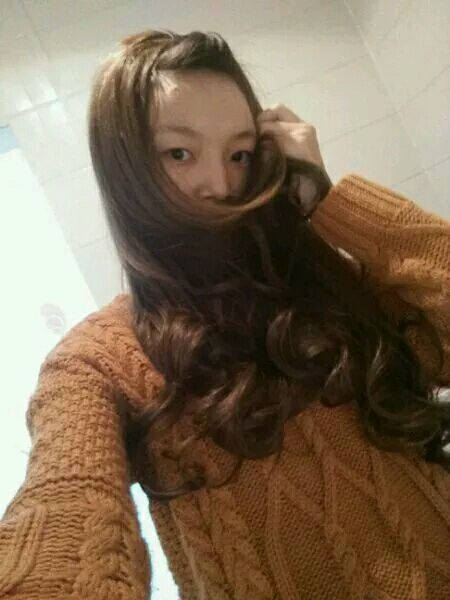face: (143, 69, 258, 261)
